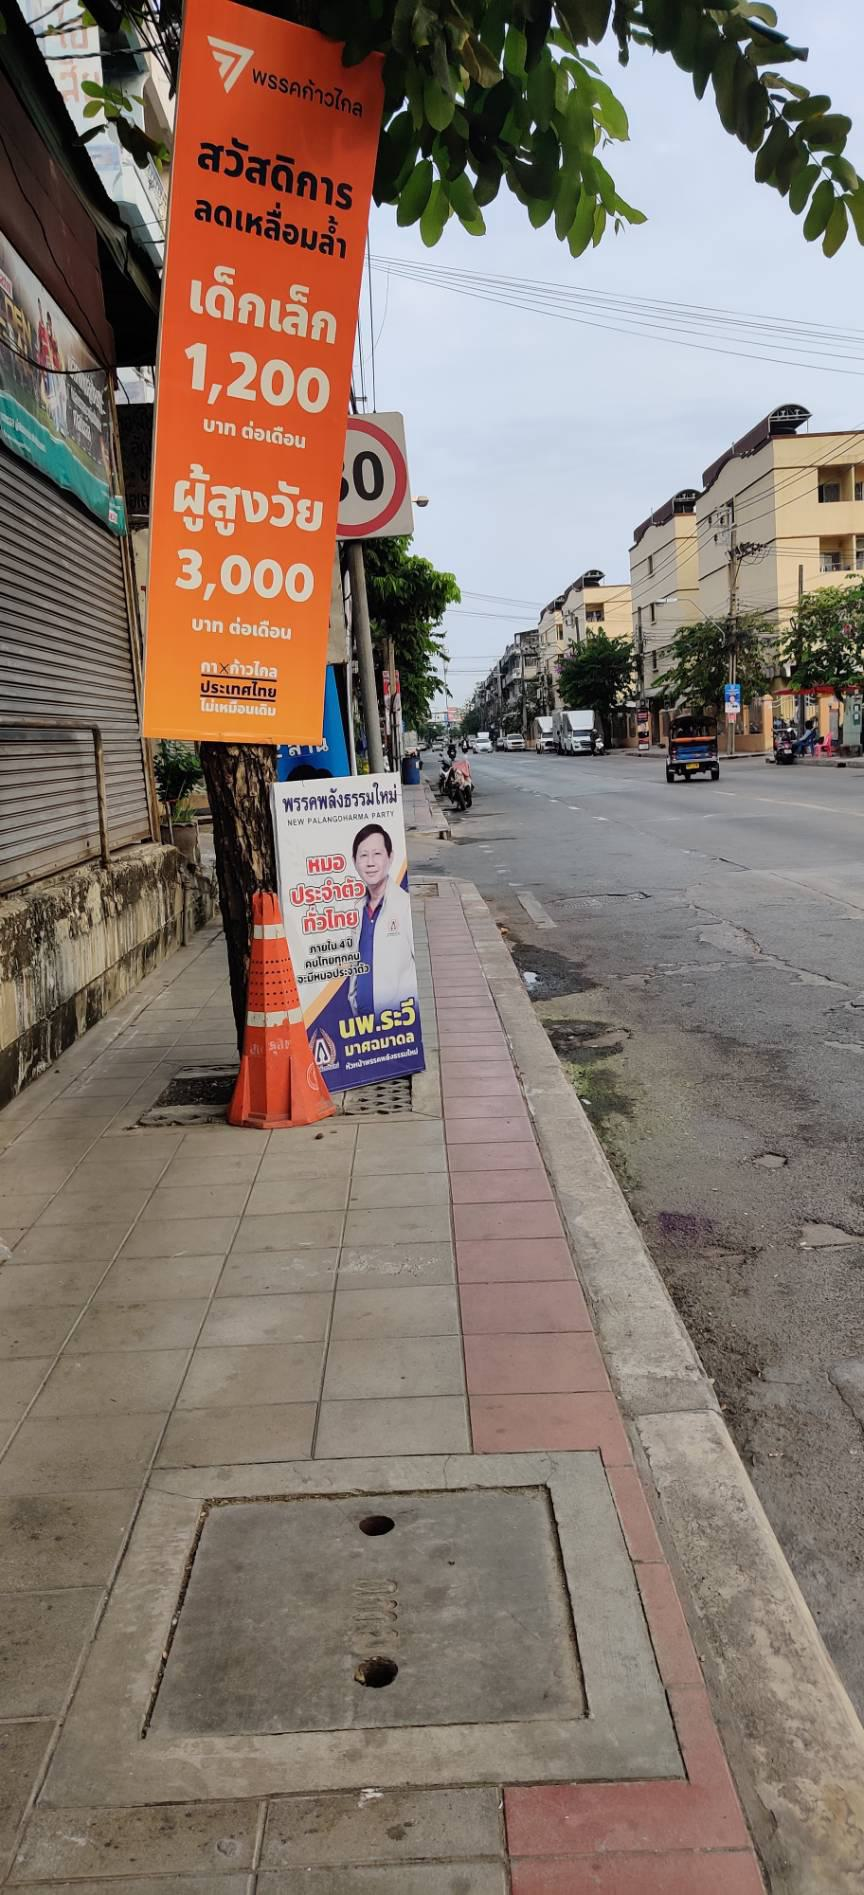Banner: (150, 2, 364, 747), (257, 773, 441, 1097)
